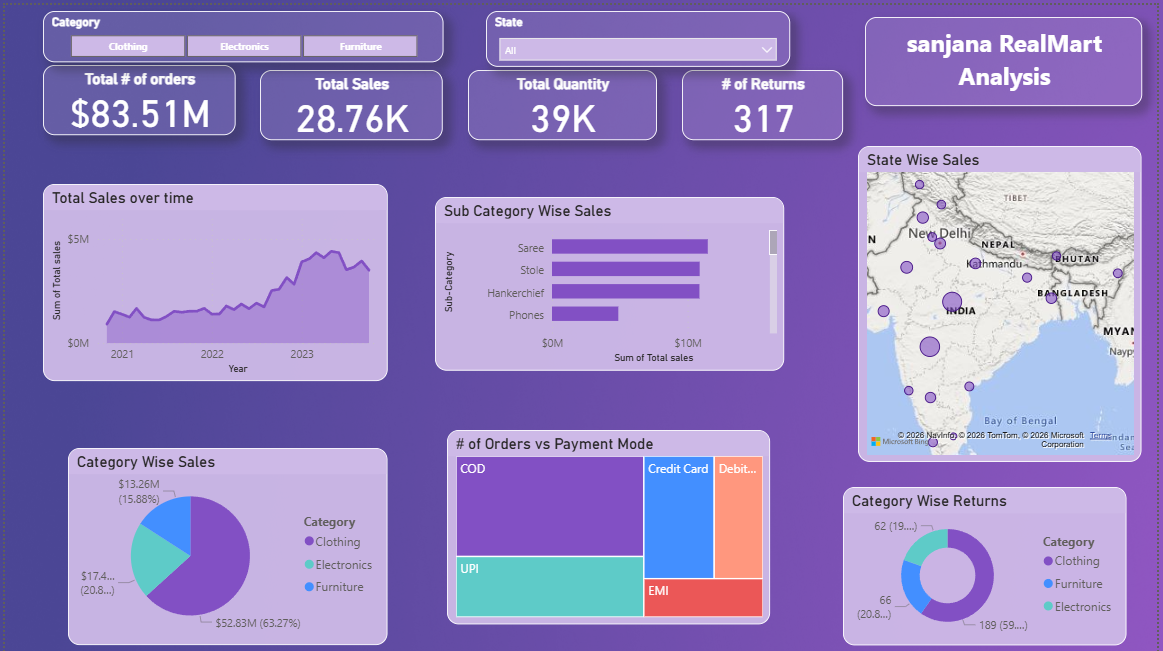

The page's visual inventory and layout, read from the dashboard file:
{"tool":"powerbi","page":{"name":"Page 1","canvas":[1280,720],"ordinal":0},"visuals":[{"type":"card","title":"Total # of orders","fields":{"Values":["Dataset.Total sales"]},"box":[42.1,67.2,214,77.9],"z":0},{"type":"card","title":"Total Sales","fields":{"Values":["Dataset.Order ID"]},"box":[283.7,72.5,203.3,77.9],"z":1000},{"type":"card","title":"Total Quantity","fields":{"Values":["Dataset.Net quantity"]},"box":[514.8,72.5,209.6,77.9],"z":2000},{"type":"card","title":"# of Returns","fields":{"Values":["Dataset.Returns"]},"box":[752.2,72.5,179.1,77.9],"z":3000},{"type":"areaChart","title":"Total Sales over time","fields":{"Category":["Dataset.Date.Variation.Date Hierarchy.Year","Dataset.Date.Variation.Date Hierarchy.Month"],"Y":["Dataset.Total sales"]},"box":[41.8,199.4,383.2,218.8],"z":4000},{"type":"pieChart","title":"Category Wise Sales","fields":{"Category":["Dataset.Category"],"Y":["Dataset.Total sales"]},"box":[70,492.2,355,218.8],"z":5000},{"type":"clusteredBarChart","title":"Sub Category Wise Sales","fields":{"Category":["Dataset.Sub-Category"],"Y":["Dataset.Total sales"]},"box":[477.6,213,388.1,192.6],"z":6000},{"type":"treemap","title":"# of Orders  vs Payment Mode","fields":{"Group":["Dataset.PaymentMode"],"Values":["Dataset.Order ID"]},"box":[491.6,471.9,359.1,215.8],"z":7000},{"type":"map","title":"State Wise Sales","fields":{"Category":["Dataset.State"],"Size":["Dataset.Total sales"]},"box":[947.5,156.7,315.2,351],"z":8000},{"type":"textbox","box":[955.5,13.4,308.1,98.5],"z":9000},{"type":"slicer","title":"Category","fields":{"Values":["Dataset.Category"]},"box":[41.8,6.8,445.5,57.4],"z":10000},{"type":"slicer","title":"State","fields":{"Values":["Dataset.State"]},"box":[534,6.8,338.5,62.2],"z":11000},{"type":"donutChart","title":"Category Wise Returns","fields":{"Category":["Dataset.Category"],"Y":["Dataset.Returns"]},"box":[931.3,535.5,315.2,175.5],"z":12000}]}

Visuals, with their boxes in screenshot pixels (x1, y1, x2, y2), scaled from the page's 1280x720 canvas onto the 1163x651 screenshot:
"Total # of orders" card: [38, 61, 233, 131]
"Total Sales" card: [258, 66, 442, 136]
"Total Quantity" card: [468, 66, 658, 136]
"# of Returns" card: [683, 66, 846, 136]
"Total Sales over time" areaChart: [38, 180, 386, 378]
"Category Wise Sales" pieChart: [64, 445, 386, 643]
"Sub Category Wise Sales" clusteredBarChart: [434, 193, 787, 367]
"# of Orders  vs Payment Mode" treemap: [447, 427, 773, 622]
"State Wise Sales" map: [861, 142, 1147, 459]
textbox: [868, 12, 1148, 101]
"Category" slicer: [38, 6, 443, 58]
"State" slicer: [485, 6, 793, 62]
"Category Wise Returns" donutChart: [846, 484, 1133, 643]
